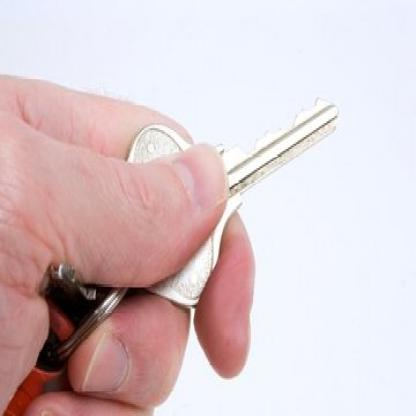keys: (114, 86, 340, 309)
